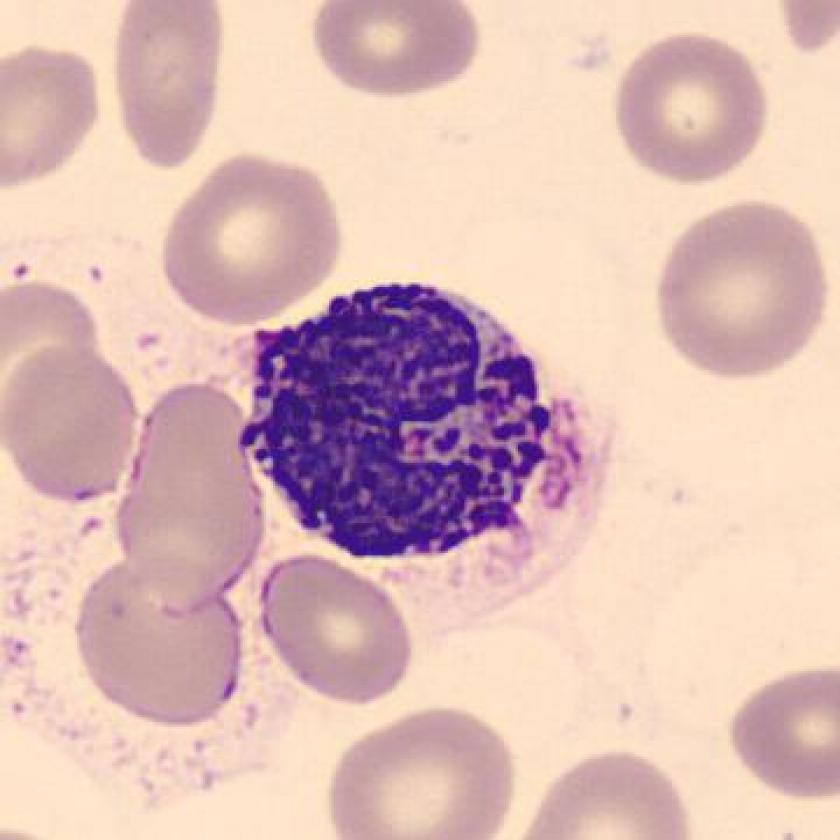basophil: (234, 272, 559, 566)
